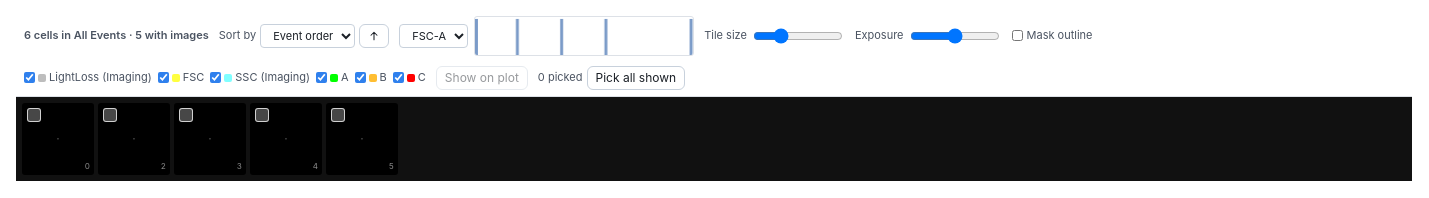
Test: ImagesTab › finds similar cells by sorting the wall on the channel the app returns, and picks all shown
Click the cell with class "gl-wall-tile" showing "· 2": (134, 139) top-left (98, 103), bottom-right (170, 175)
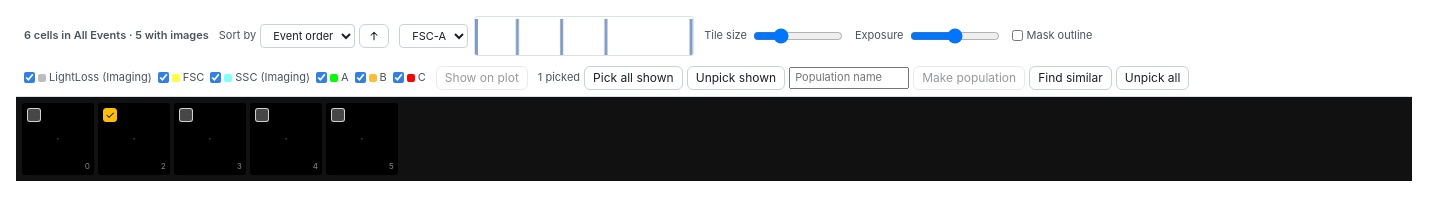
Click the button "Find similar": (1070, 78) top-left (1029, 66), bottom-right (1112, 90)
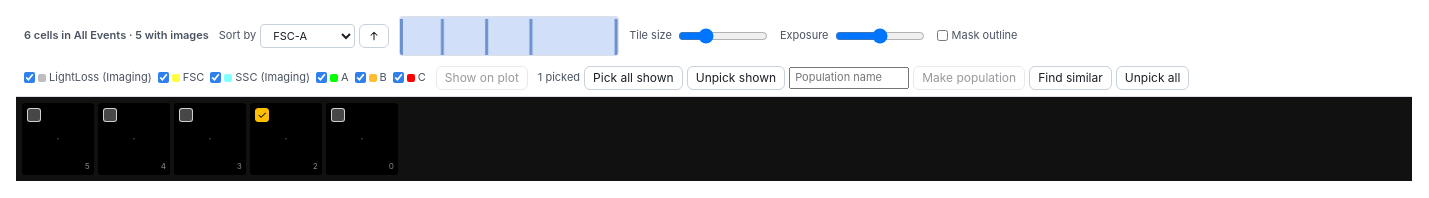
expect the dropdown labelled "Sort by" shows "FSC-A": met, box top-left (260, 24), bottom-right (355, 48)
Click the button "Pick all shown": (633, 78) top-left (584, 66), bottom-right (683, 90)
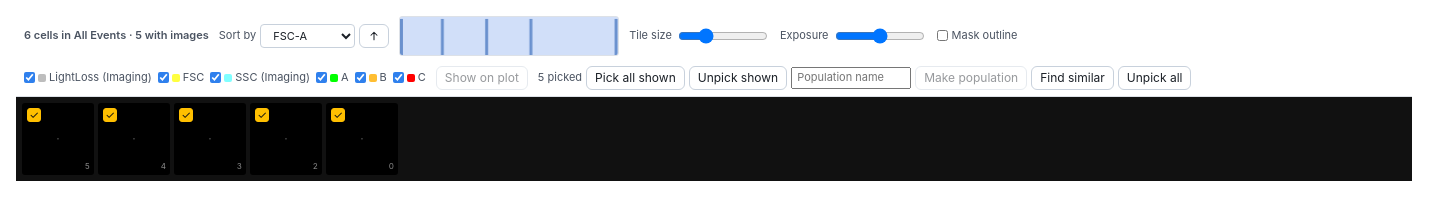
expect the element with class "gl-images-picked" shows "5 picked": met, box top-left (538, 70), bottom-right (582, 84)
